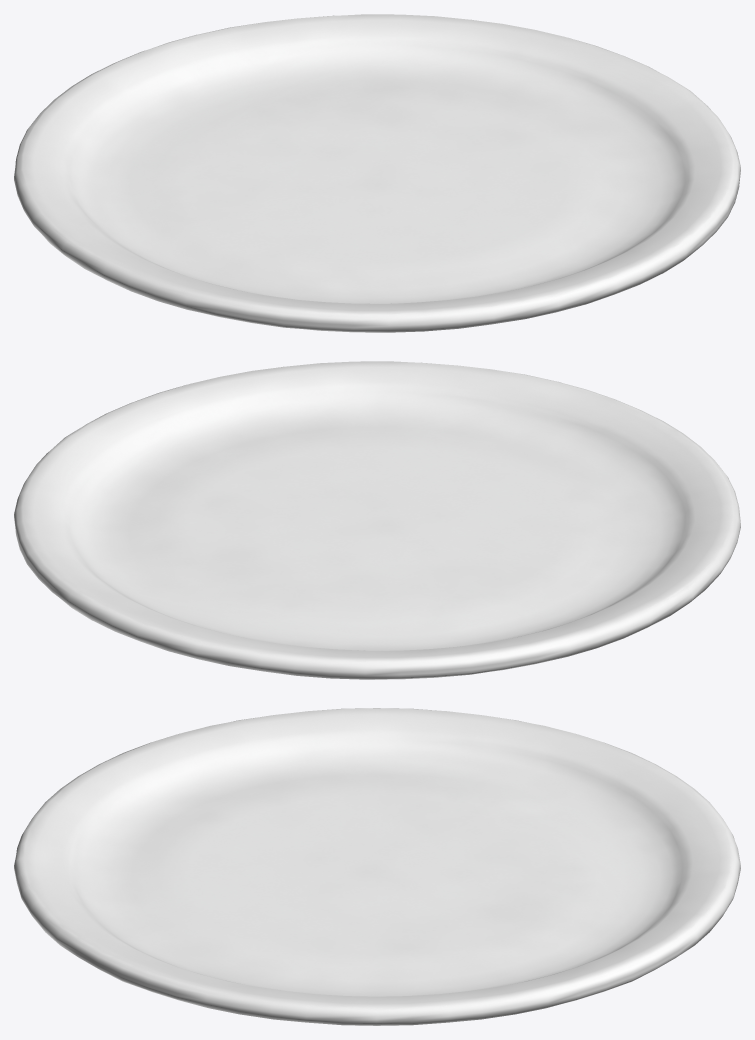
Rendered from Salad_App_Dessert_Plate_white_7.4Inch_circomference_0225004001_texture.glb.
The picture shows the model from 3 angles, top to bottom: view 1: azimuth 30°, elevation 25°; view 2: azimuth 150°, elevation 25°; view 3: azimuth 270°, elevation 25°; orthographic projection.
Parts seen in each view (by area): view 1: Mesh_0.001; view 2: Mesh_0.001; view 3: Mesh_0.001.
Part boxes in pixels (bbox=[...]): Mesh_0.001: bbox=[14, 14, 740, 332]; Mesh_0.001: bbox=[14, 361, 740, 679]; Mesh_0.001: bbox=[14, 708, 740, 1025].
Bounding box in the file's own units: 0.3534 × 0.0254 × 0.3534.
1 material, 1 textured.
